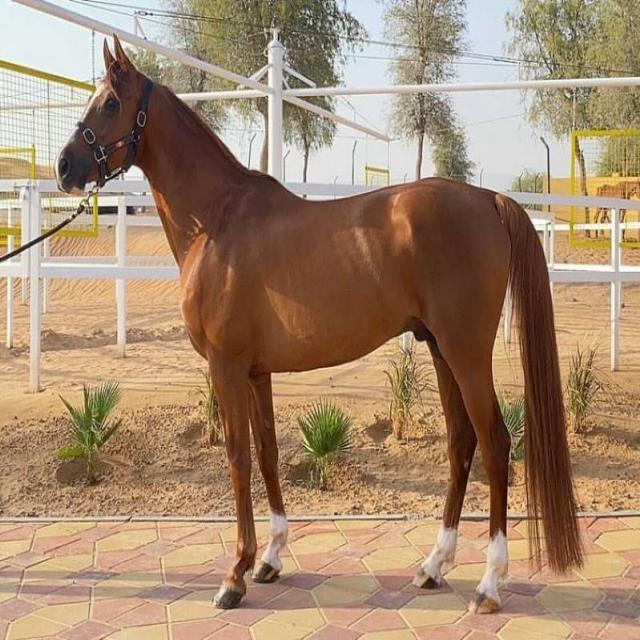tap: (36, 44, 559, 521)
